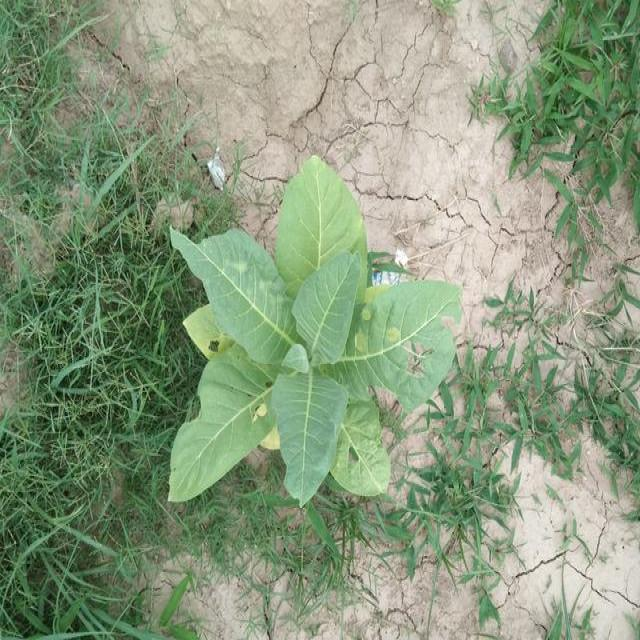crop: (169, 150, 462, 521)
